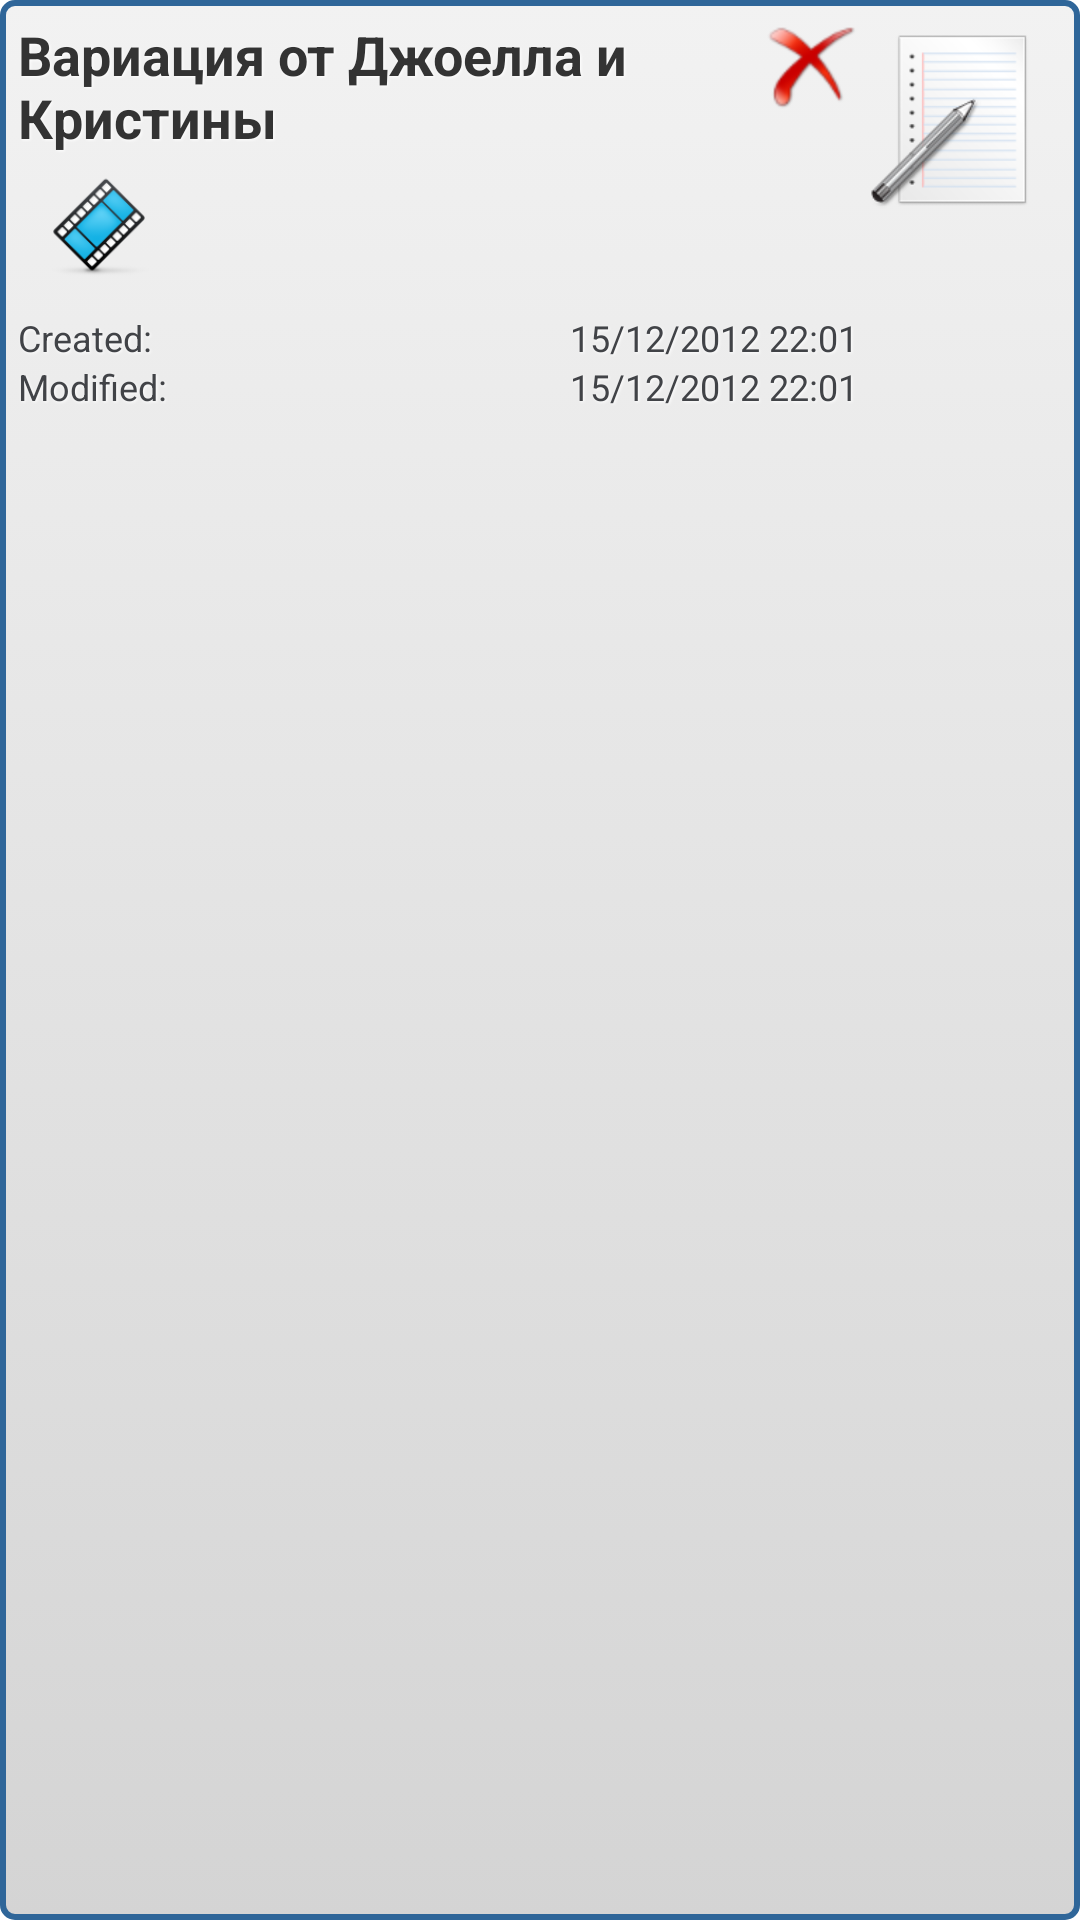

Icon bounding boxes for this 1080 × 1920 phone screenshot, format (x1, y1, x2, y2):
delete: (770, 27, 854, 107)
vid: (53, 179, 145, 273)
